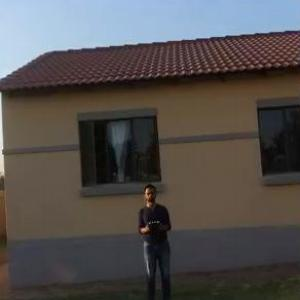follow: (133, 176, 178, 299)
